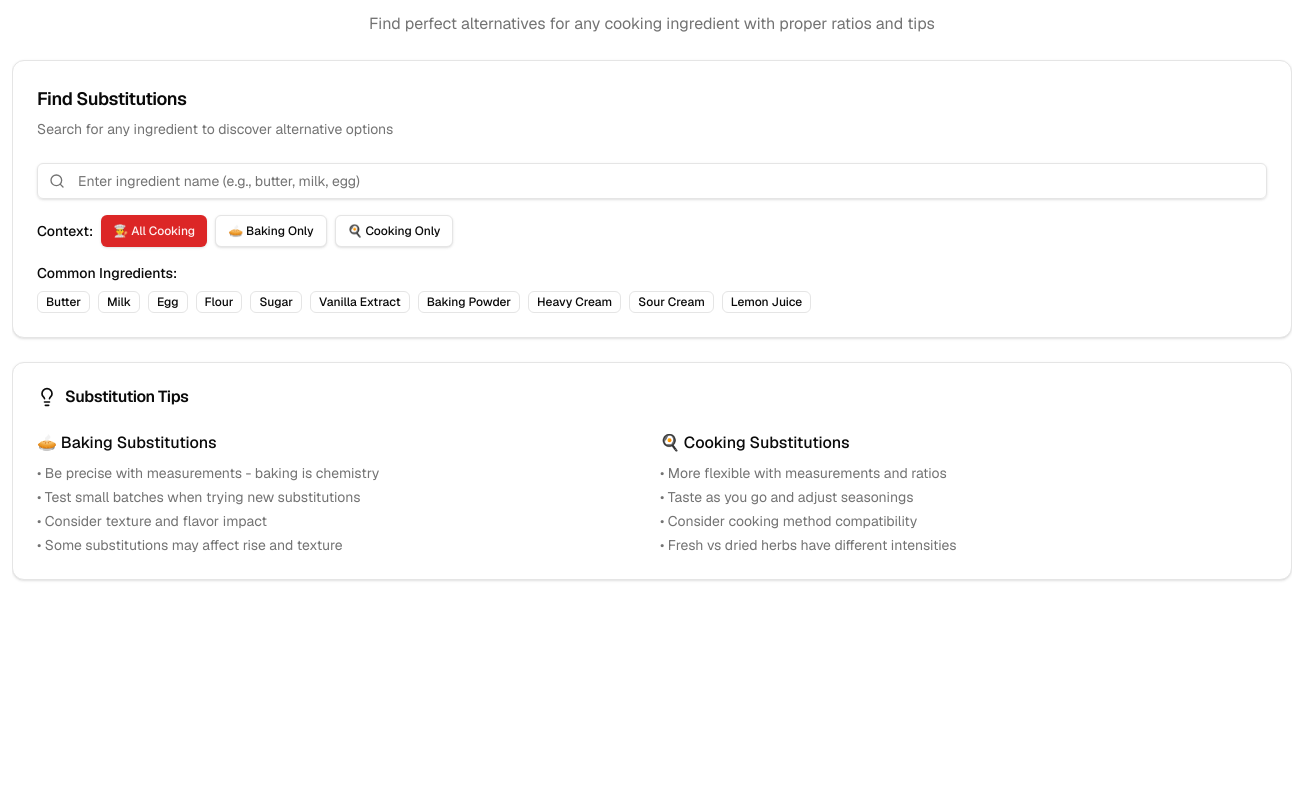
SubstitutionWizard › Substitution Results Display › should display substitution results
The width and height of the screenshot is (1292, 811).
Type "butter" into the field with placeholder "Enter ingredient name (e.g., butter, milk, egg)" at (652, 181), box [37, 163, 1267, 199]
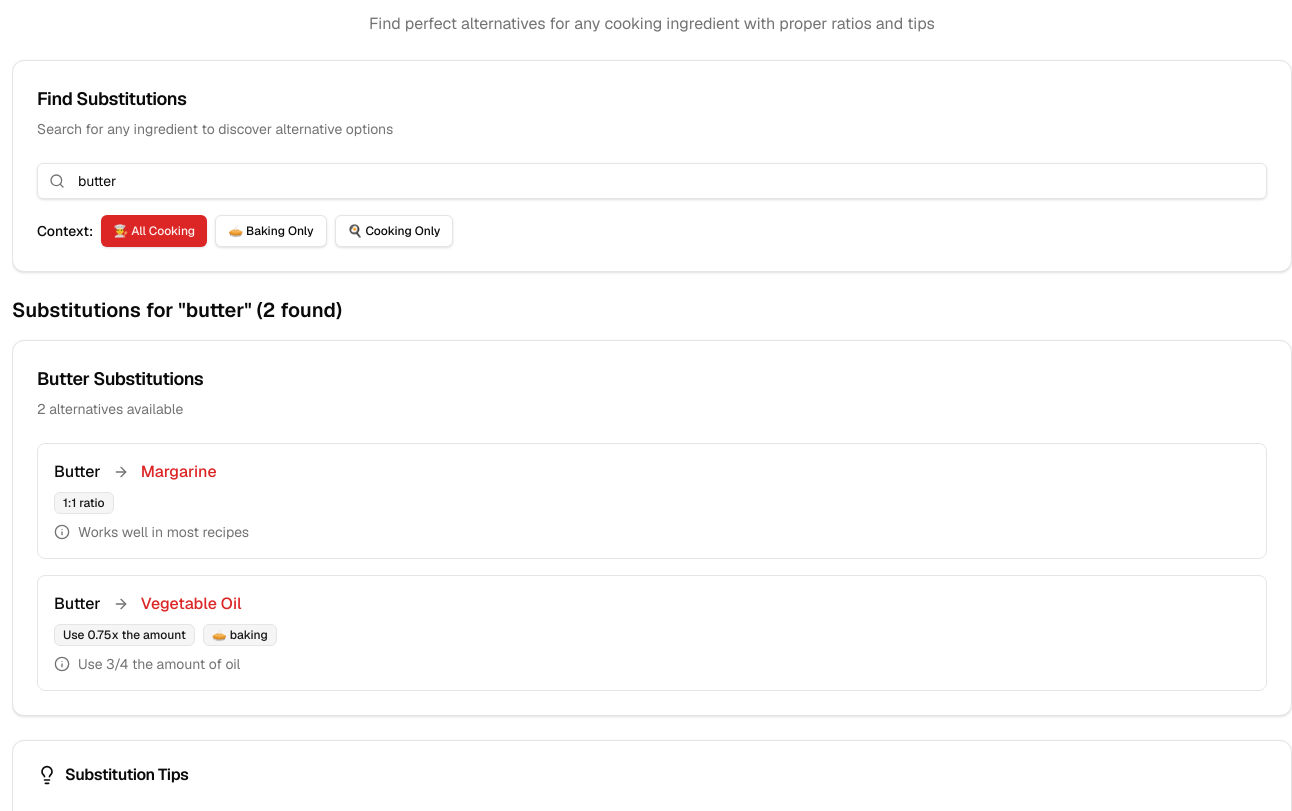
Expected: the heading "Substitutions for \"butter\" (2 found)" is shown, [12, 296, 342, 324]
Expected: the text "butter Substitutions" is shown, [37, 367, 203, 390]
Expected: the text "2 alternatives available" is shown, [37, 400, 183, 418]
